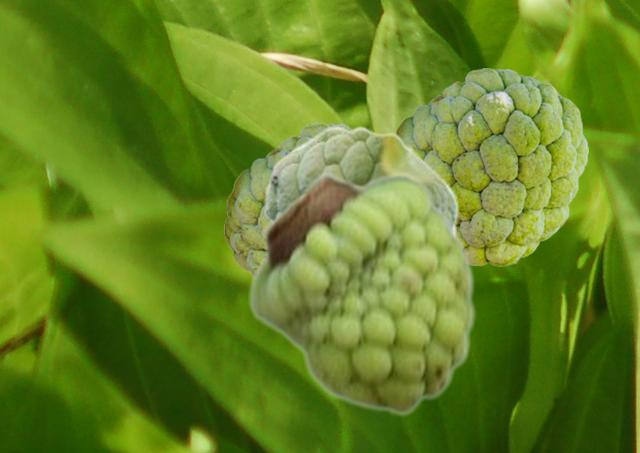atis: (248, 170, 476, 417), (393, 68, 587, 265), (263, 125, 459, 234), (224, 123, 351, 276)
